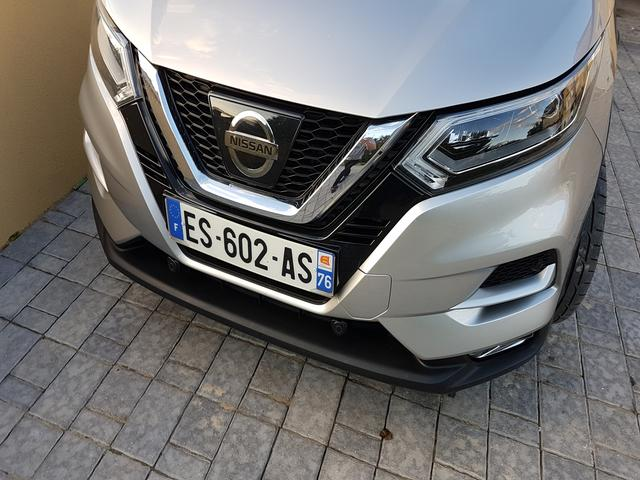Quashquai: (150, 167, 365, 324)
